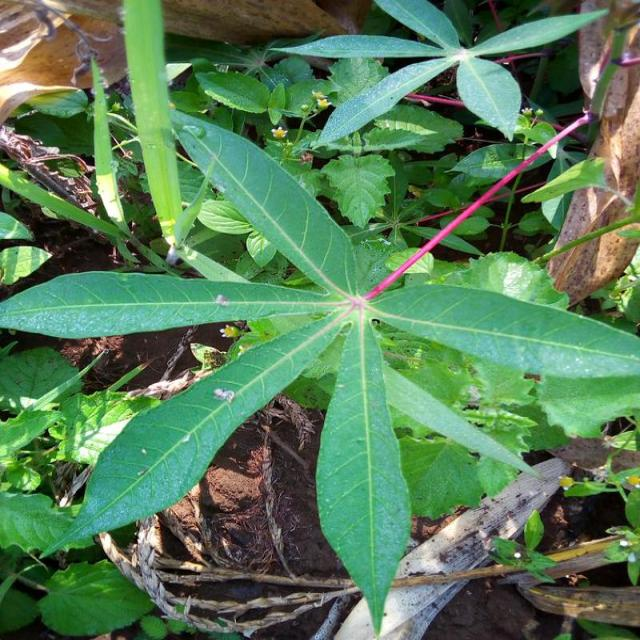cassava leaf: (1, 103, 638, 634), (314, 307, 412, 636)
